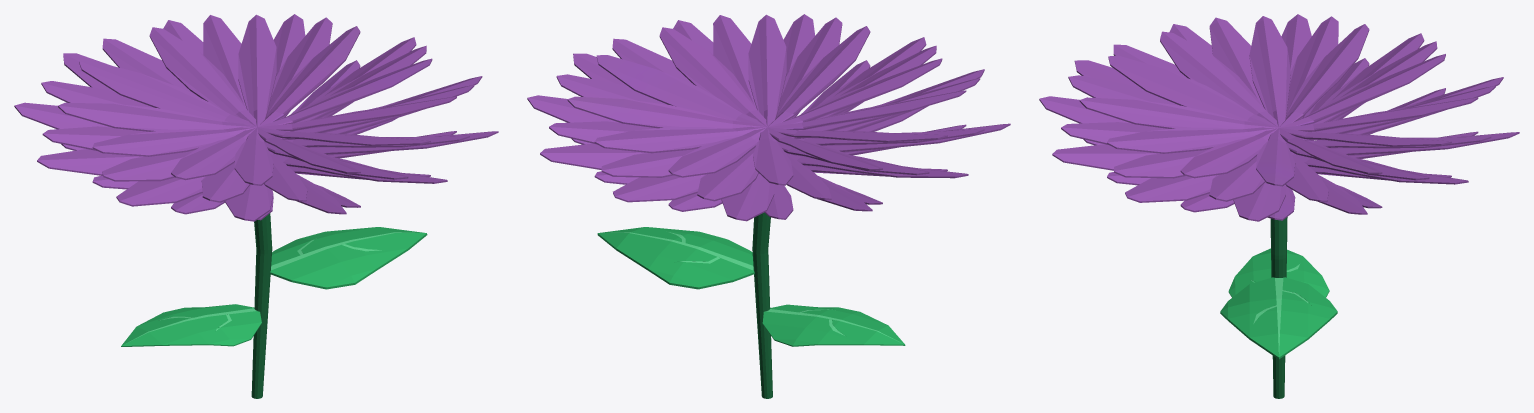
Rendered from Flower_2.fbx.
3 renders of one model, left to right at view 1: azimuth 30°, elevation 25°; view 2: azimuth 150°, elevation 25°; view 3: azimuth 270°, elevation 25°, orthographic.
Visible parts, largest first — view 1: Flower_2; view 2: Flower_2; view 3: Flower_2.
Boxes of the visible parts, x1,y1,x2,y2 form: Flower_2: (14, 14, 498, 398); Flower_2: (527, 14, 1010, 398); Flower_2: (1039, 14, 1519, 398).
Size of the model in its own units: 424 by 287 by 421.
